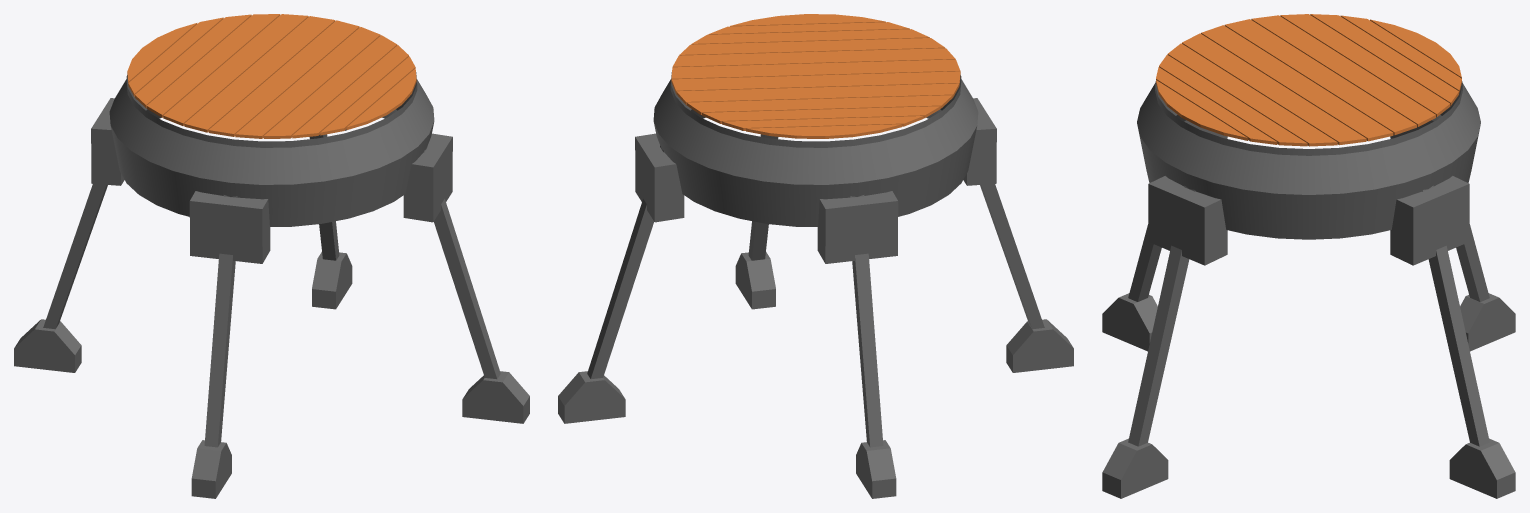
File: bomb.fbx
3 renders of one model, left to right at view 1: azimuth 30°, elevation 25°; view 2: azimuth 150°, elevation 25°; view 3: azimuth 270°, elevation 25°, orthographic. The views are drawn at different scales.
Parts seen in each view (by area): view 1: House_Single_Support; view 2: House_Single_Support; view 3: House_Single_Support.
Boxes of the visible parts, x1=… form: House_Single_Support: x1=14, y1=14, x2=529, y2=498; House_Single_Support: x1=558, y1=14, x2=1073, y2=498; House_Single_Support: x1=1102, y1=14, x2=1515, y2=498.
Size of the model in its own units: 97.94 by 87.12 by 97.94.
